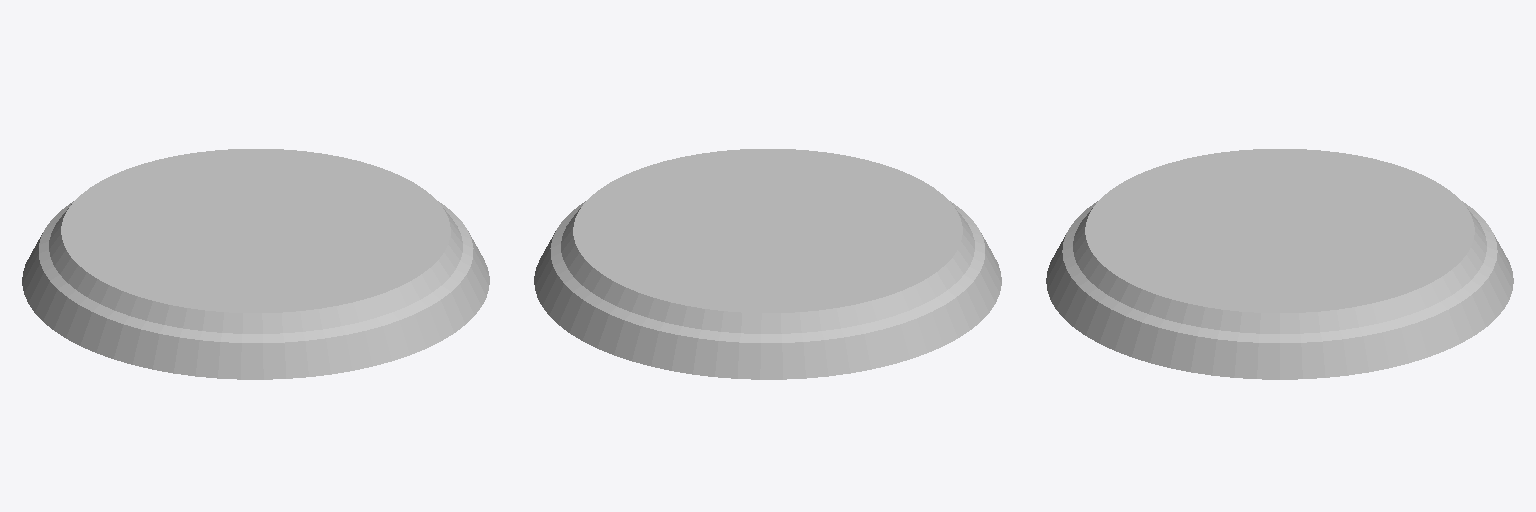
Rendered from DNA_base.obj.
3 views of the same model, side by side, from view 1: azimuth 30°, elevation 25°; view 2: azimuth 150°, elevation 25°; view 3: azimuth 270°, elevation 25° (orthographic).
Visible parts, largest first — view 1: Cylinder_Cylinder.001; view 2: Cylinder_Cylinder.001; view 3: Cylinder_Cylinder.001.
Boxes of the visible parts, x1,y1,x2,y2 form: Cylinder_Cylinder.001: [22, 149, 489, 379]; Cylinder_Cylinder.001: [534, 149, 1001, 379]; Cylinder_Cylinder.001: [1046, 149, 1513, 379].
Bounding box in the file's own units: 28.8 × 3.4 × 28.8.